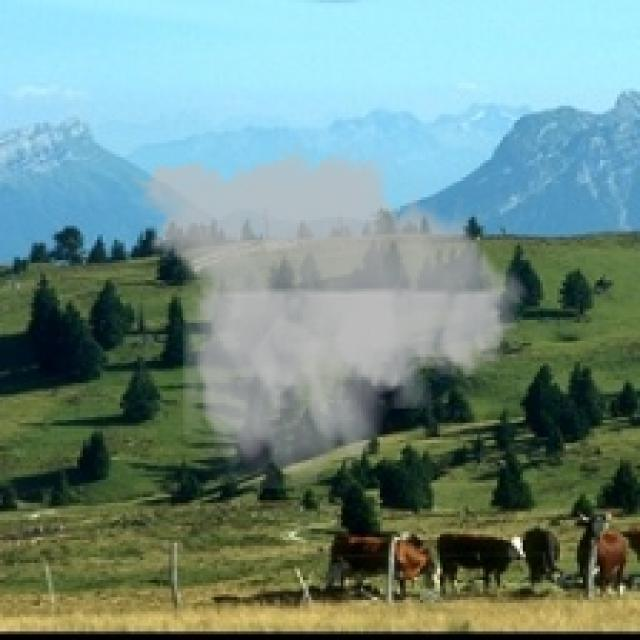smoke: (120, 137, 540, 489)
